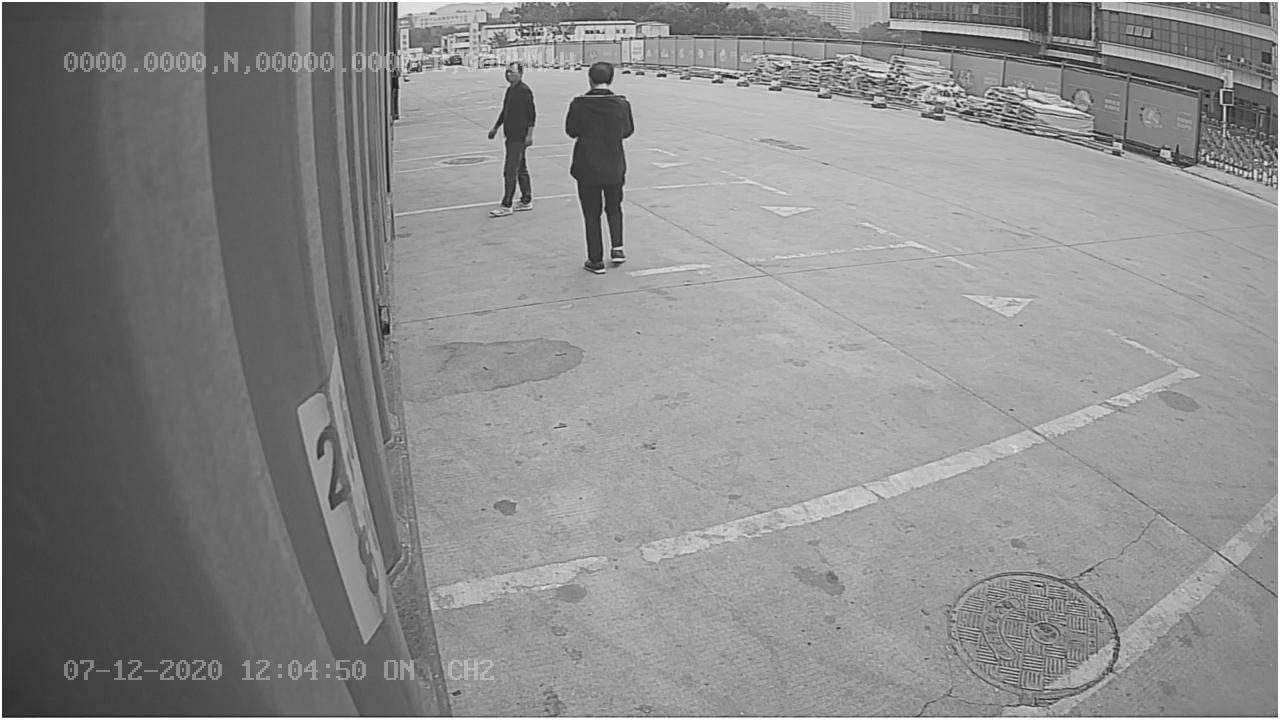person: (562, 52, 638, 273)
